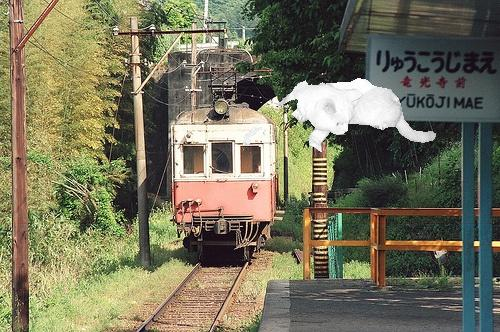tampered: (244, 79, 436, 152)
